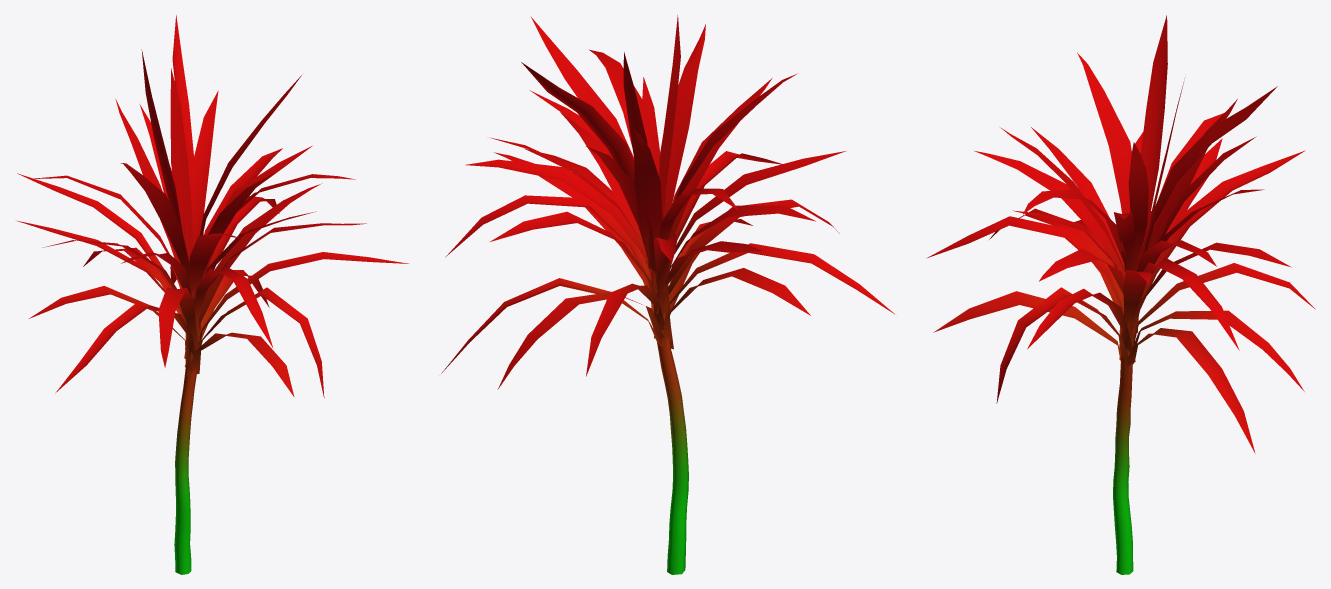
File: SM_Palm01_LOD2.fbx
The picture shows the model from 3 angles, left to right: view 1: azimuth 30°, elevation 25°; view 2: azimuth 150°, elevation 25°; view 3: azimuth 270°, elevation 25°; orthographic projection. The views are drawn at different scales.
Visible parts, largest first — view 1: _n96y_Var1_LOD4; view 2: _n96y_Var1_LOD4; view 3: _n96y_Var1_LOD4.
Part boxes in pixels (x1=…): _n96y_Var1_LOD4: x1=16, y1=15, x2=408, y2=574; _n96y_Var1_LOD4: x1=441, y1=15, x2=894, y2=574; _n96y_Var1_LOD4: x1=926, y1=15, x2=1315, y2=574.
Bounding box in the file's own units: 126 × 179 × 117.
